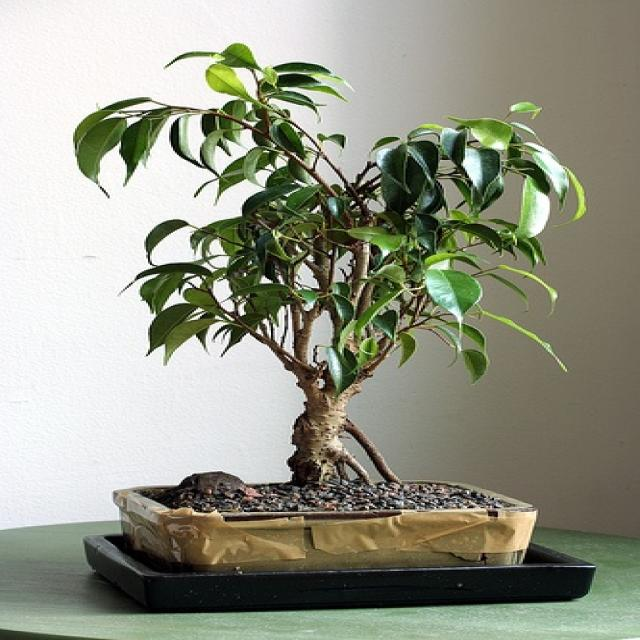pottedplant: (71, 39, 586, 574)
